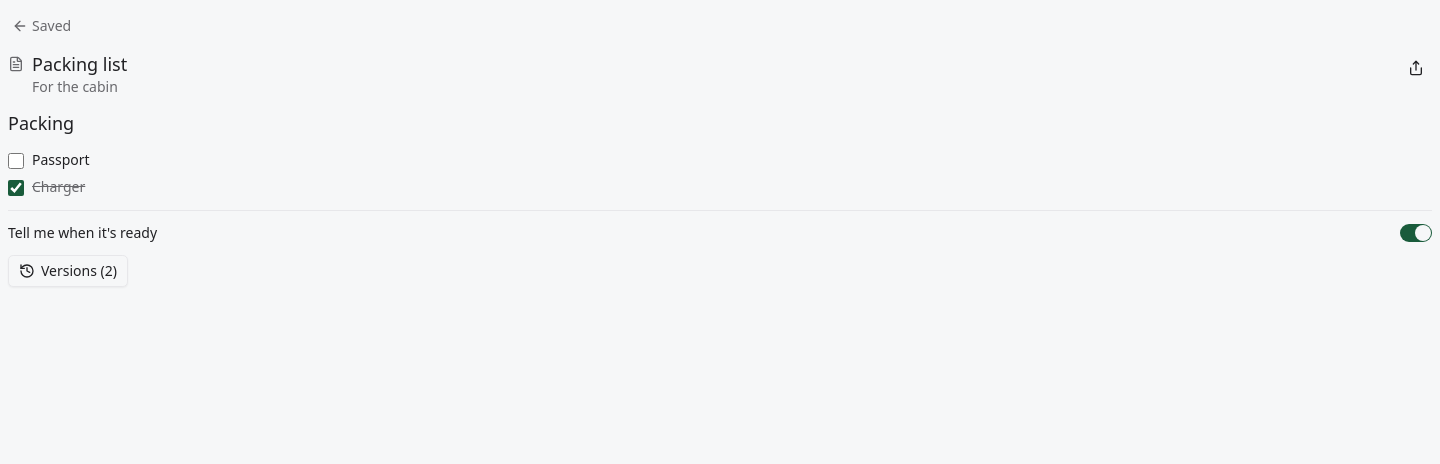
Test: ArtifactView › saves a tick as a version by the person
The width and height of the screenshot is (1440, 464).
Click the checkbox labelled "Passport".
click(16, 161)  # box left=8, top=153, right=24, bottom=169
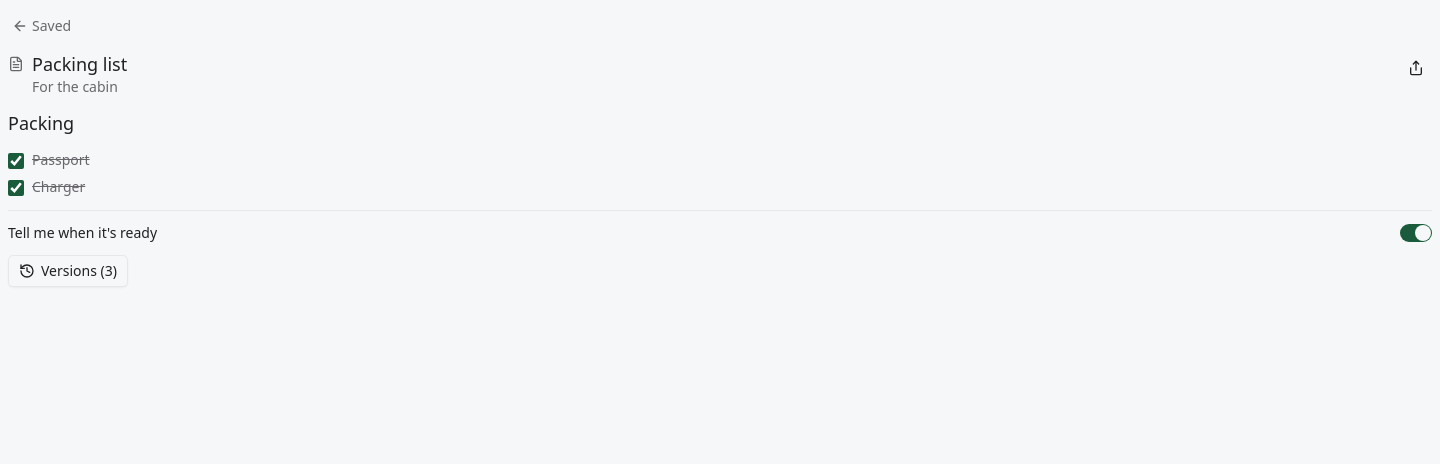
Now the checkbox labelled "Passport" is checked, box left=8, top=153, right=24, bottom=169
Click the button "Versions (3)".
click(68, 271)  # box left=8, top=255, right=128, bottom=287
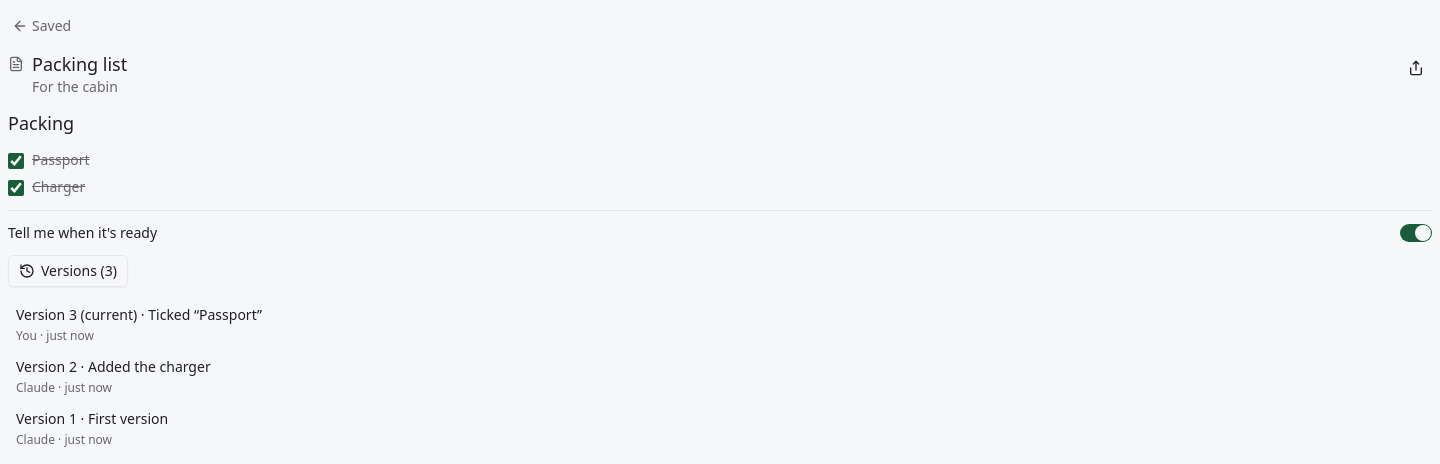
Now the text "Version 3 (current) · Ticked “Passport”" is shown, box left=16, top=305, right=262, bottom=324
Now the text "You · just now" is shown once, box left=16, top=327, right=94, bottom=344
